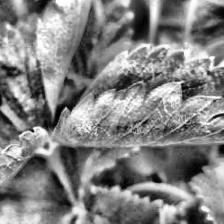Powdery Mildew Leaf: (51, 45, 224, 147)
